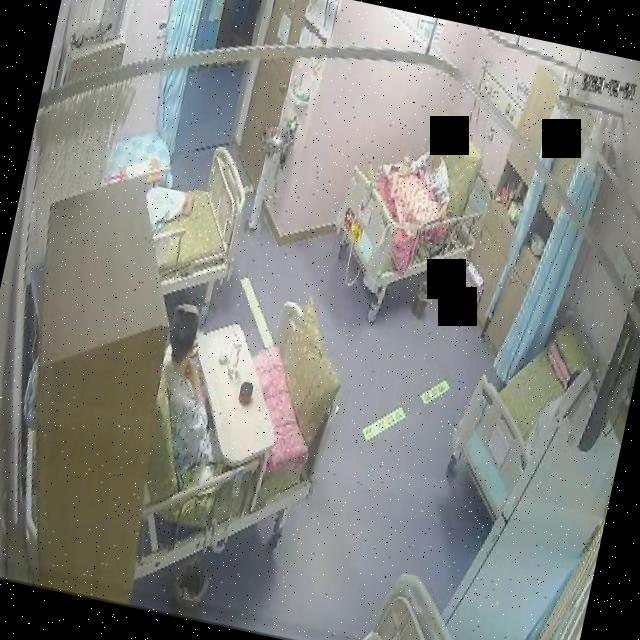bed: (125, 279, 357, 576), (308, 115, 497, 332), (436, 311, 594, 534), (128, 131, 258, 308)
patient: (136, 287, 274, 493), (404, 124, 461, 202)
sit: (134, 289, 274, 499), (402, 125, 462, 208)
